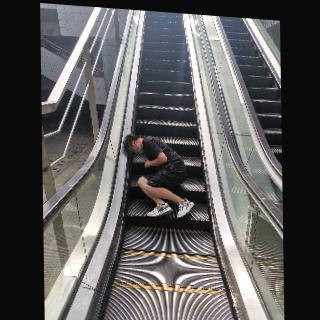anomaly: (123, 134, 194, 219)
